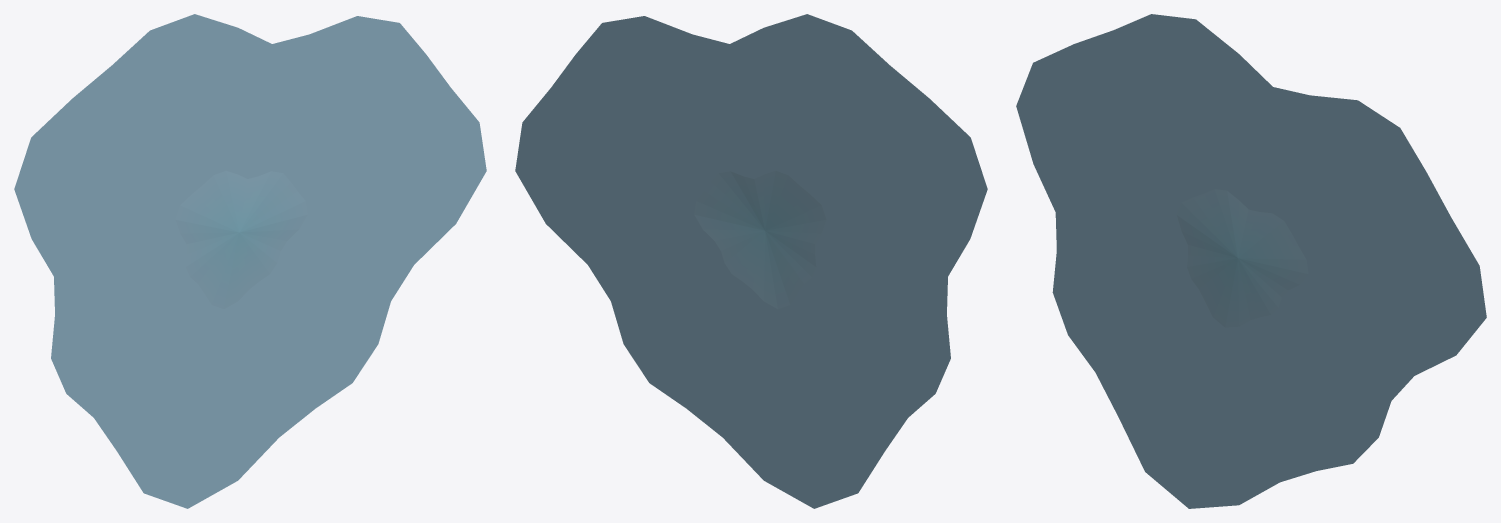
File: Kaeya_FrostMist.fbx
3 renders of one model, left to right at view 1: azimuth 30°, elevation 25°; view 2: azimuth 150°, elevation 25°; view 3: azimuth 330°, elevation 25°, orthographic.
Visible parts, largest first — view 1: ASSET_KaeyaFrostMist; view 2: ASSET_KaeyaFrostMist; view 3: ASSET_KaeyaFrostMist.
Part boxes in pixels (box(x1,y1,x2,y2)): ASSET_KaeyaFrostMist: box(14, 14, 486, 508); ASSET_KaeyaFrostMist: box(515, 14, 987, 508); ASSET_KaeyaFrostMist: box(1016, 14, 1486, 508).
Size of the model in its own units: 218 by 218 by 1.
